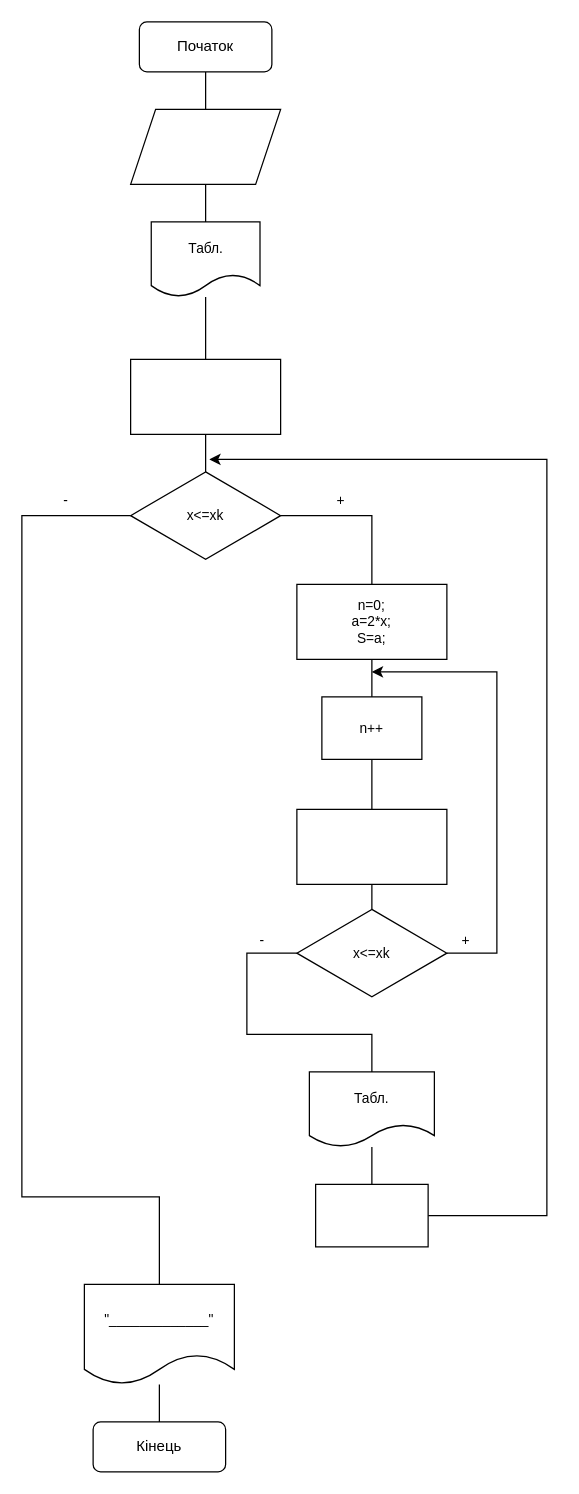
The diagram is 579 pixels wide and 1494 high, and some of its shapes have lost their labels. The shapes that lost their labels are listed below. From the top down, each one's centre as x and y in pixels, then its label:
At point (205, 146): "xp, xk, dx, eps".
At point (205, 396): "x = xp".
At point (371, 846): "R= (2 * x * x) / (2 * n + 1); a*=R; S+=a;".
At point (371, 1215): "x += dx".
